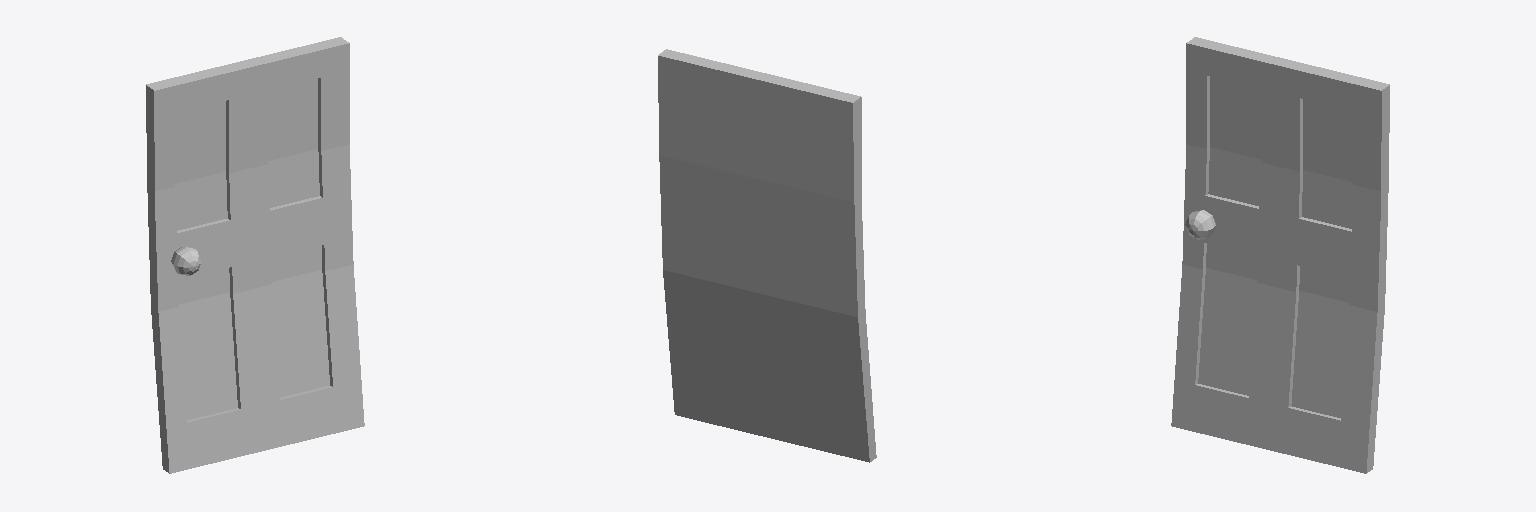
The model's file is PuertaPivoteOK.obj.
3 views of the same model, side by side, from view 1: azimuth 30°, elevation 25°; view 2: azimuth 150°, elevation 25°; view 3: azimuth 330°, elevation 25° (orthographic).
Parts seen in each view (by area): view 1: PuertaDePrueba:pSphere2; view 2: PuertaDePrueba:pSphere2; view 3: PuertaDePrueba:pSphere2.
Boxes of the visible parts, x1=… form: PuertaDePrueba:pSphere2: x1=146, y1=37, x2=364, y2=473; PuertaDePrueba:pSphere2: x1=658, y1=49, x2=876, y2=462; PuertaDePrueba:pSphere2: x1=1171, y1=37, x2=1389, y2=473.
Bounding box in the file's own units: 2.18 × 3.98 × 0.4912.